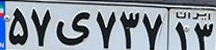character: (53, 8, 92, 49), (92, 8, 119, 50), (5, 5, 30, 48), (141, 10, 167, 50), (29, 5, 53, 48), (118, 9, 140, 50), (192, 21, 216, 50), (172, 18, 190, 50)
